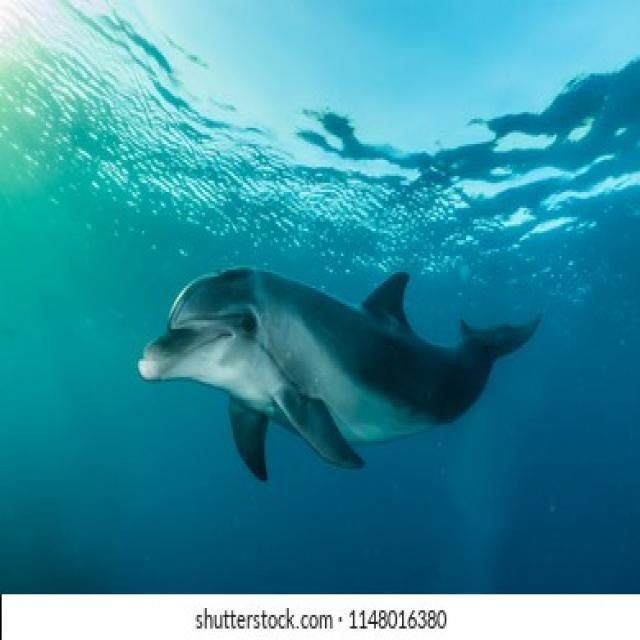dolphin: (133, 214, 552, 498)
